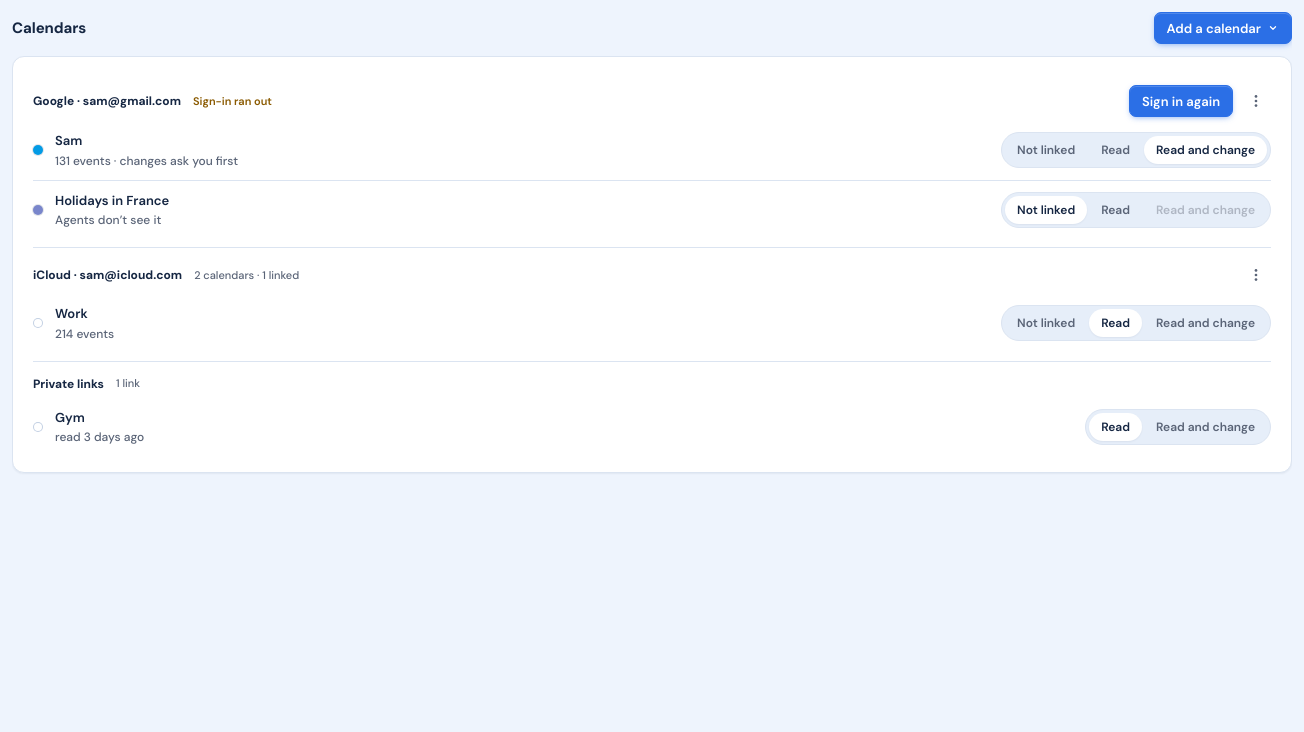
a row’s choice › puts the old choice back when the tool refuses, and says why
Click the radio button labelled "Read and change" in the row of "214 events".
click(1206, 323)  # box [1144,309,1267,337]
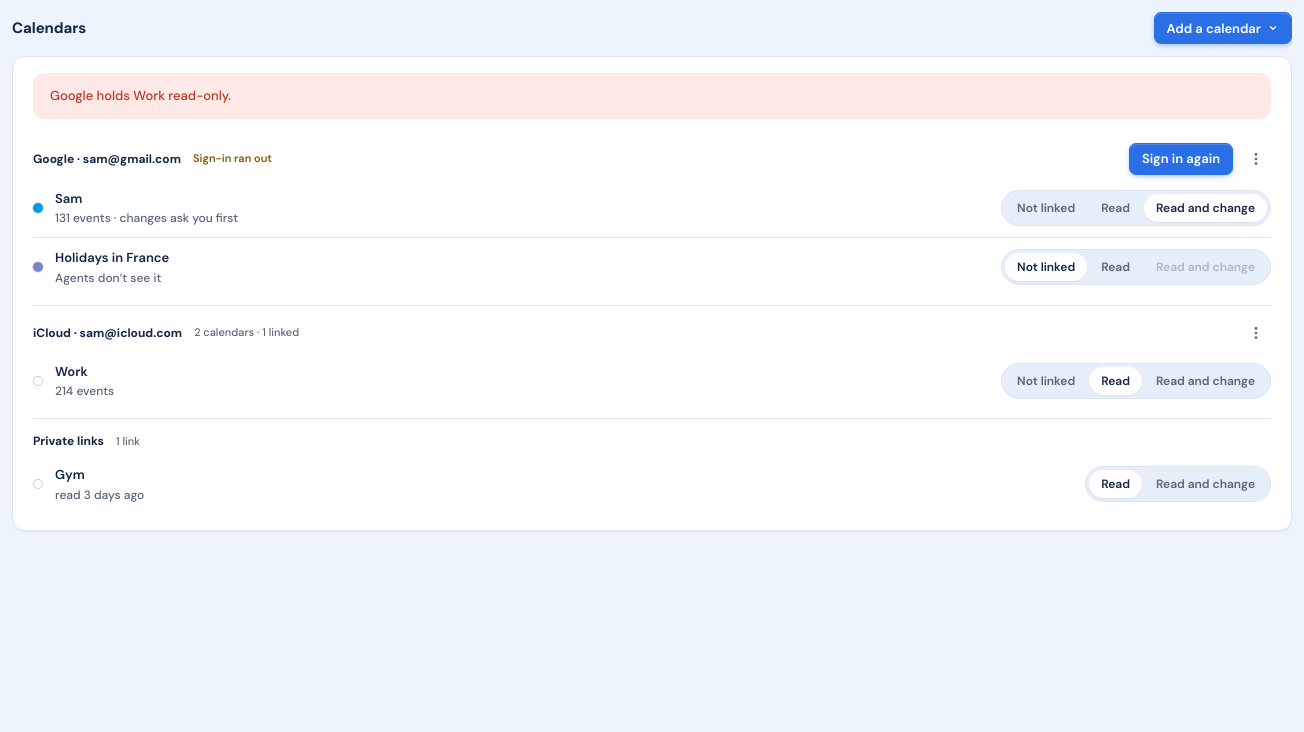
expect the text "Google holds Work read-only." is shown: met, box [33,73,1271,118]
